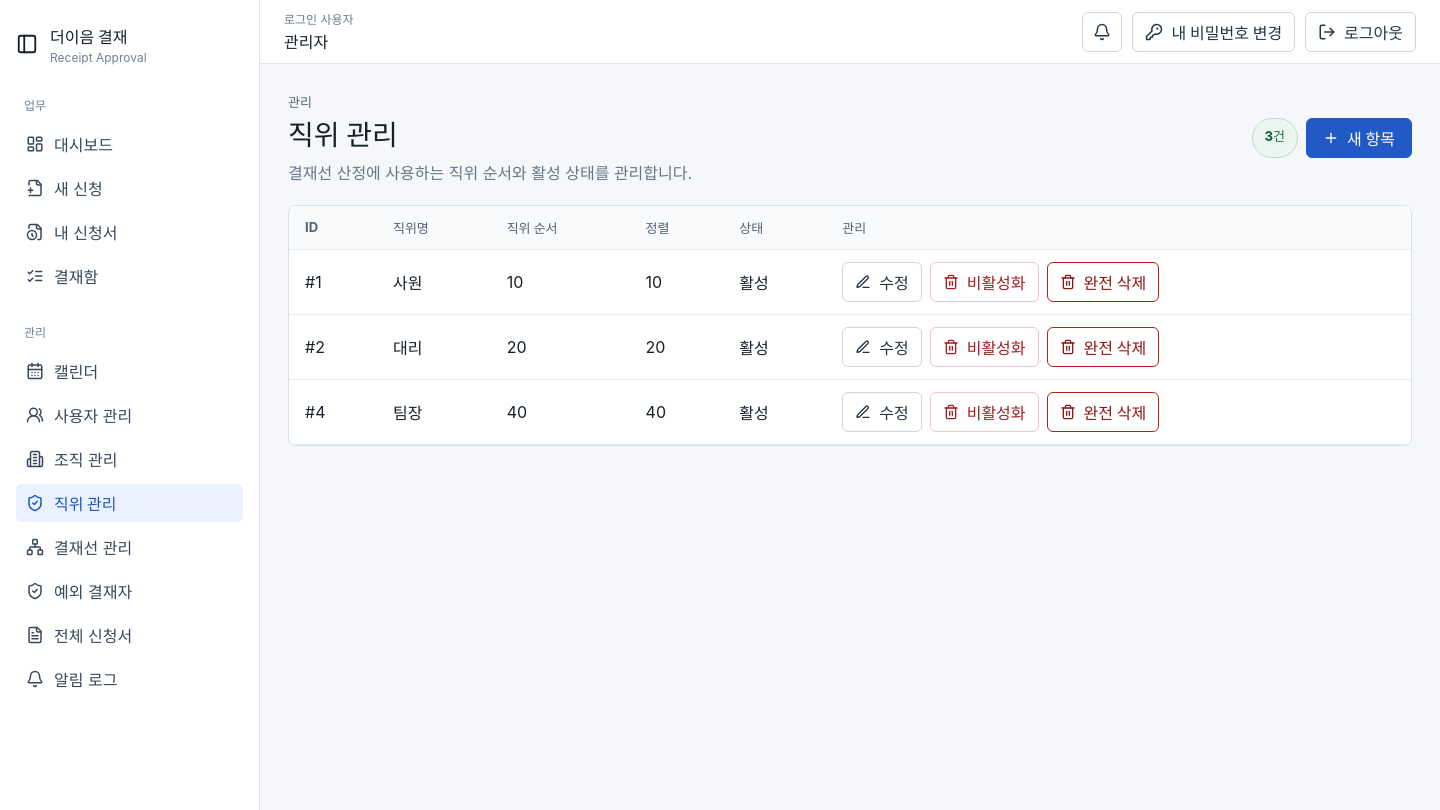
Test: AdminReferencePage › 관리자는 기준정보를 확인 후 완전 삭제할 수 있다
Click the button "완전 삭제" in the row of "사원". click: (1103, 282)
box: left=1047, top=262, right=1159, bottom=302
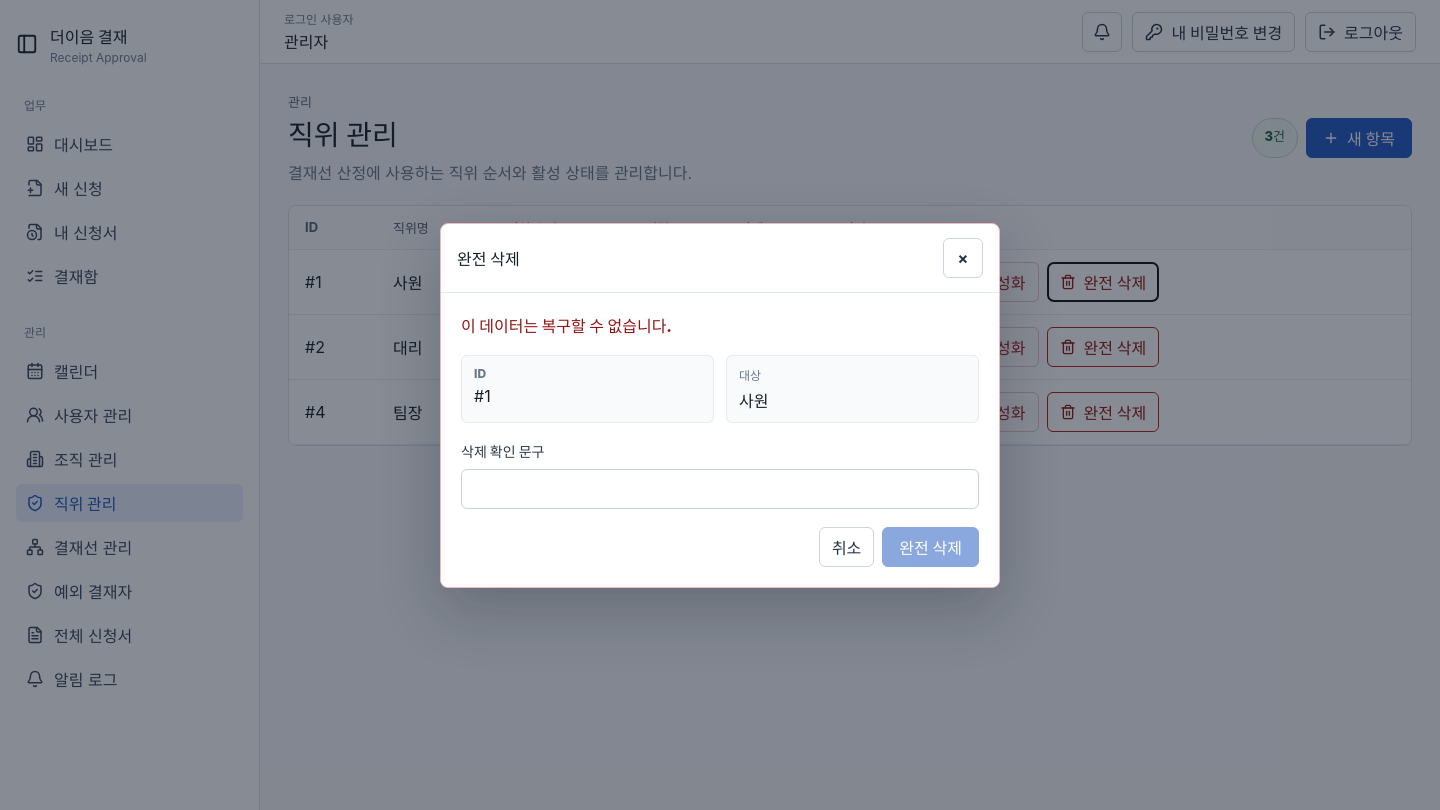
Result: the dialog "완전 삭제" shows "복구할 수 없습니다" at left=461, top=316, right=672, bottom=336
Result: the button "완전 삭제" is disabled at left=882, top=526, right=979, bottom=566
Type "사원" into the field labelled "삭제 확인 문구". click: (720, 488)
box: left=461, top=468, right=979, bottom=508
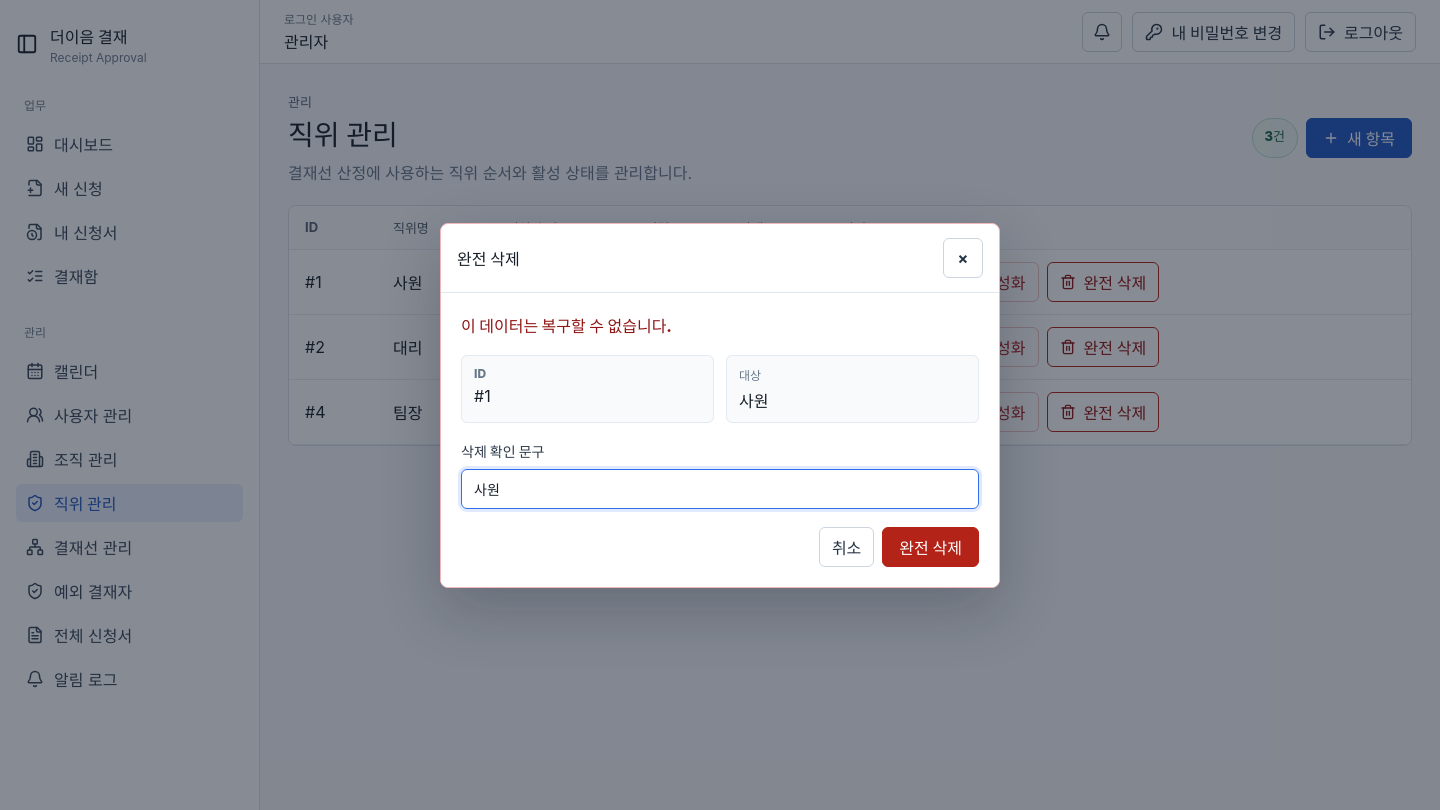
Click the button "완전 삭제". click: (931, 546)
box: left=882, top=526, right=979, bottom=566
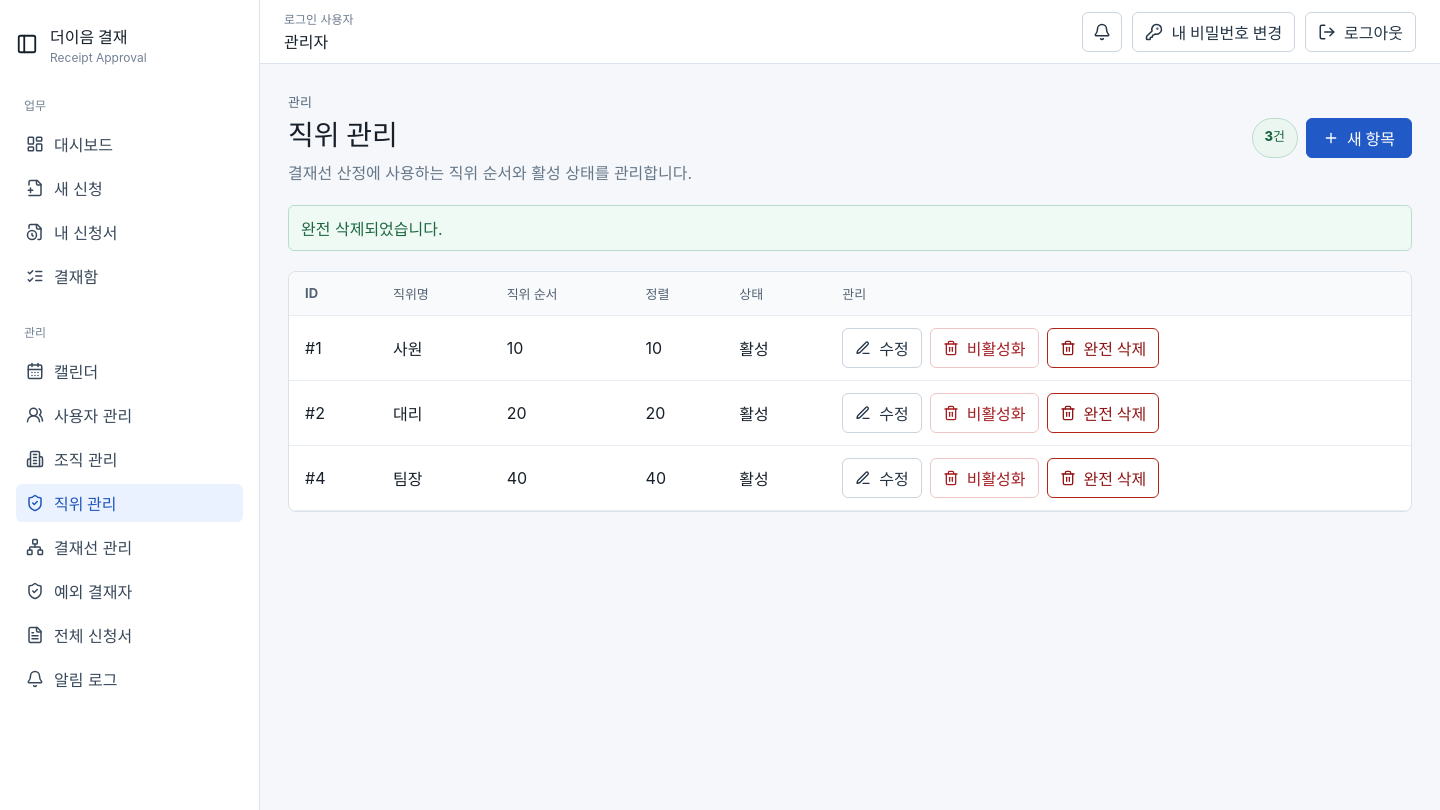
Result: the message reads "완전 삭제되었습니다." at left=301, top=219, right=443, bottom=239
